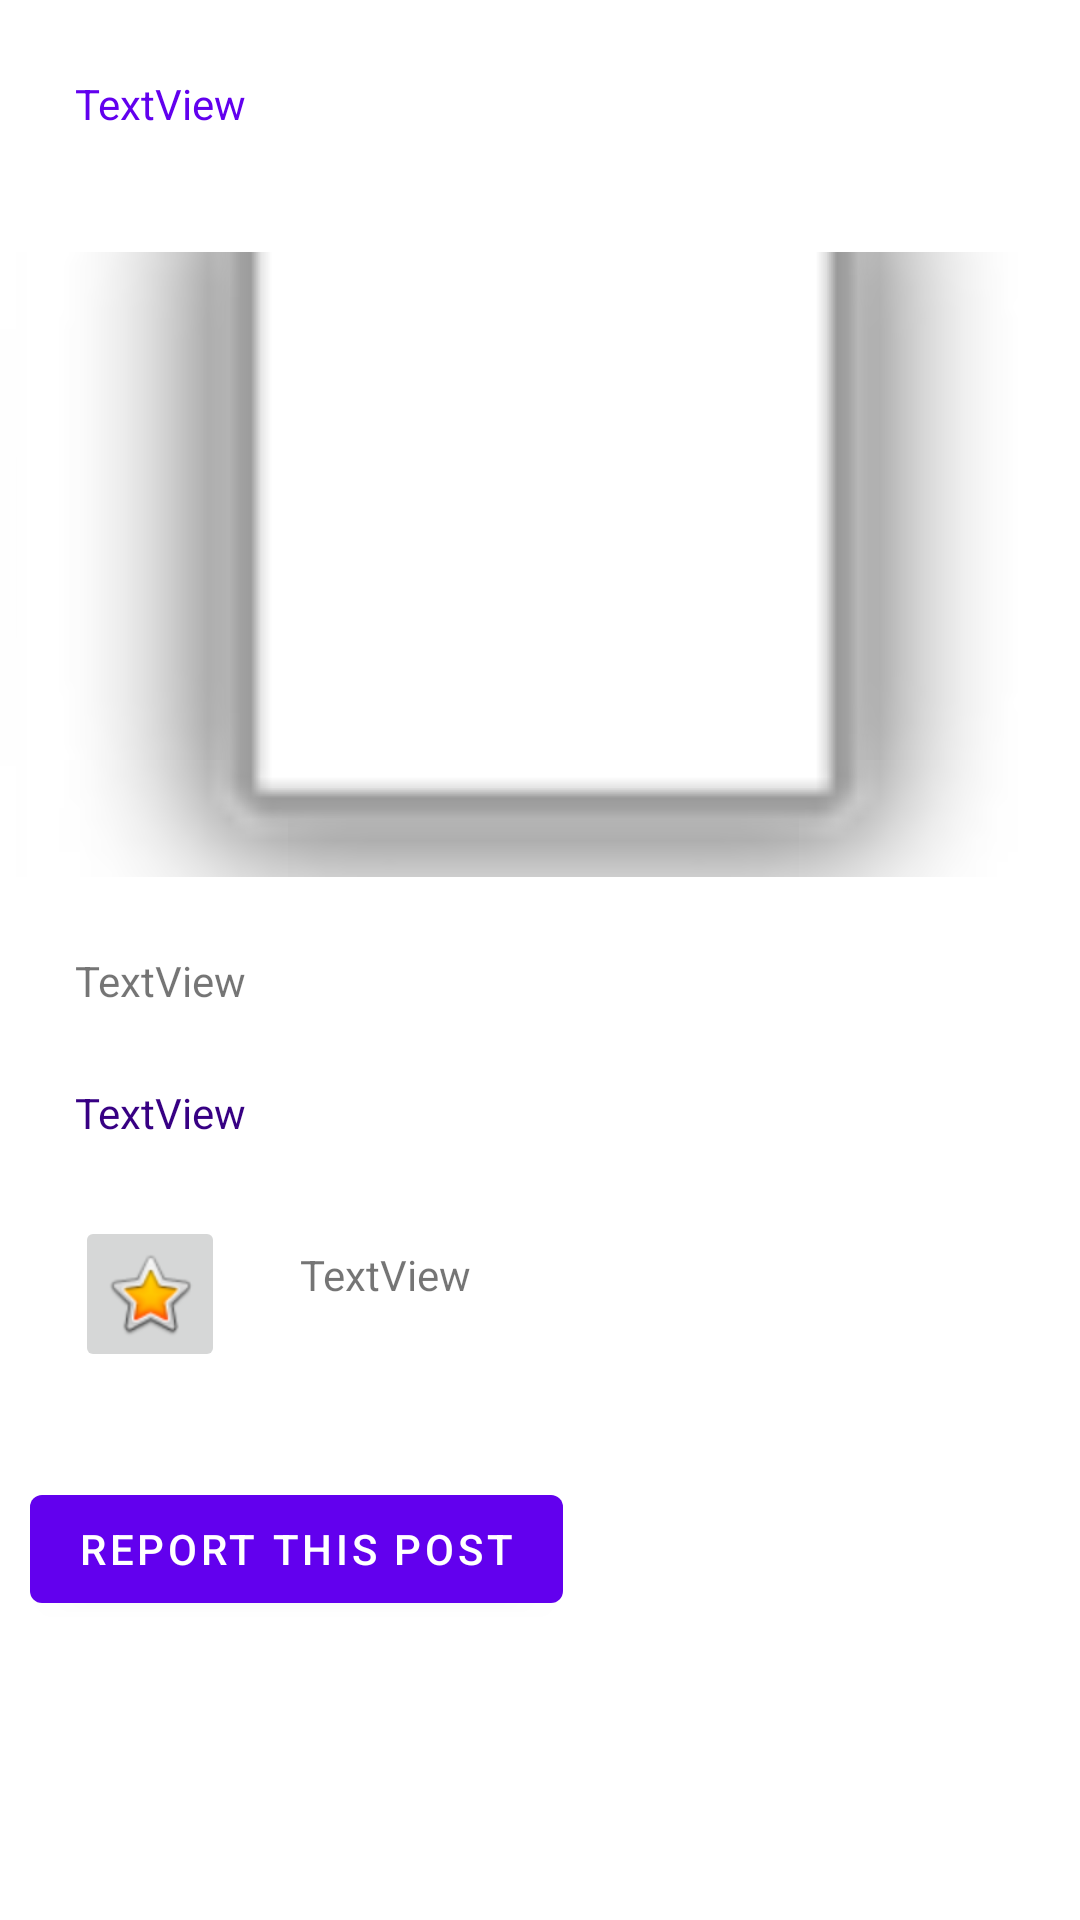

Screen size 1080 x 1920. Icon name, then its center in pixels as (x=x, y=y):
star on: (x=150, y=1294)
